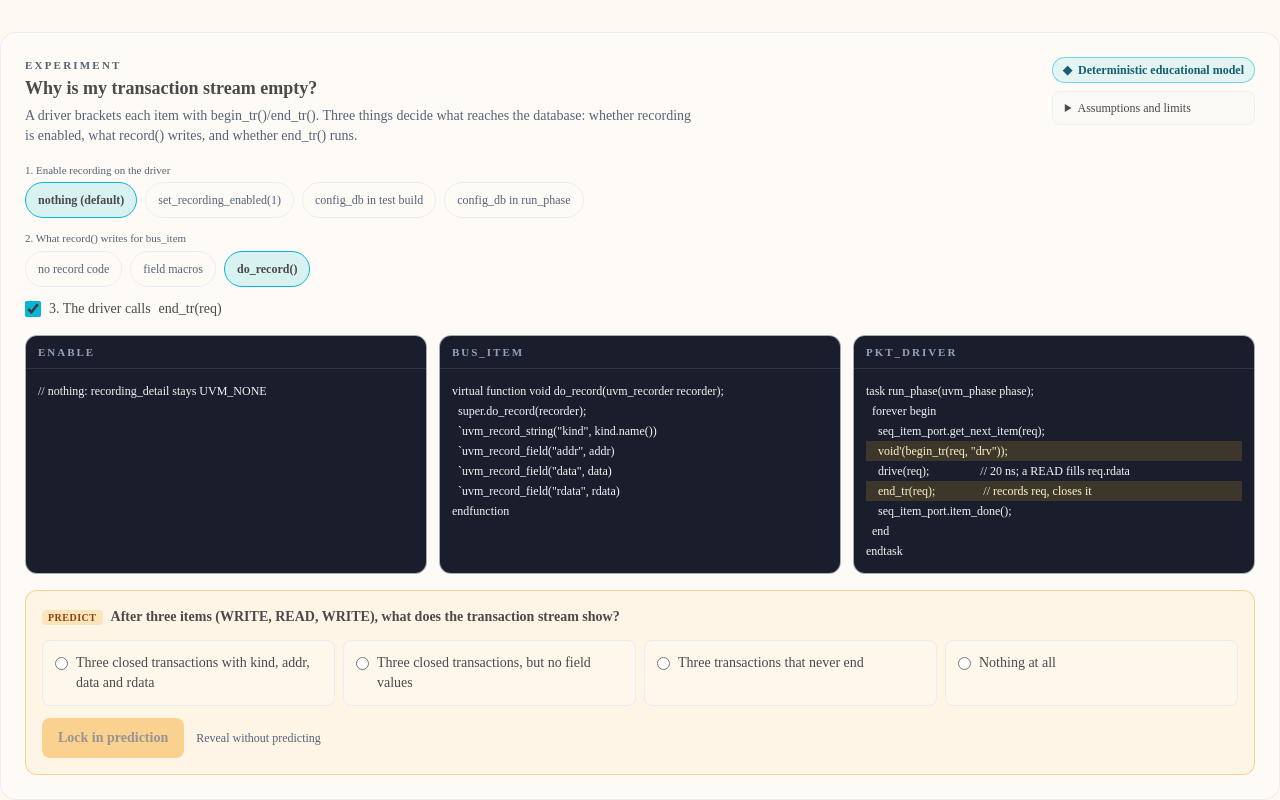
TransactionRecordingVisualizer › default: the stream stays hidden until the prediction, then shows an empty stream and begin_tr = 0
Click the radio button labelled "Three closed transactions with kind, addr, data and rdata".
click(62, 664)  # box [55,657,68,670]
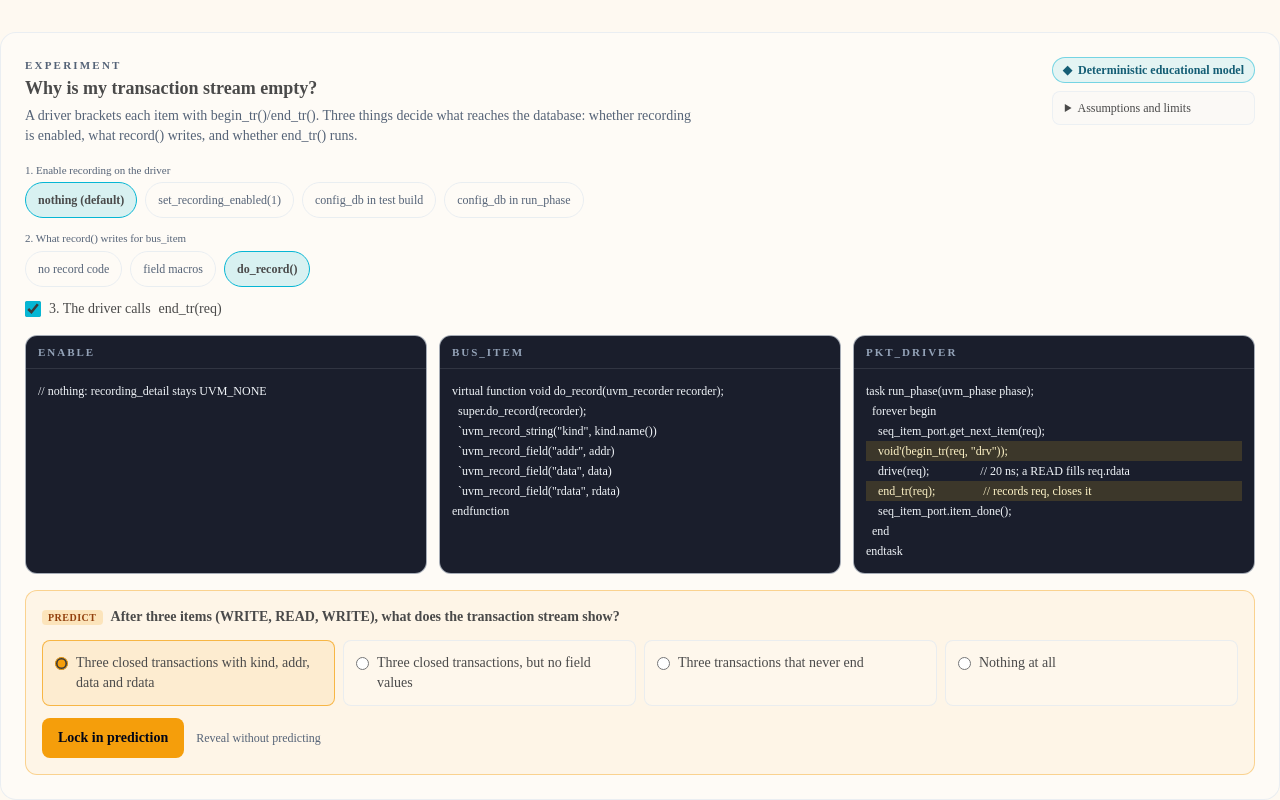
Click the button "Lock in prediction".
click(113, 738)  # box [42,718,184,758]
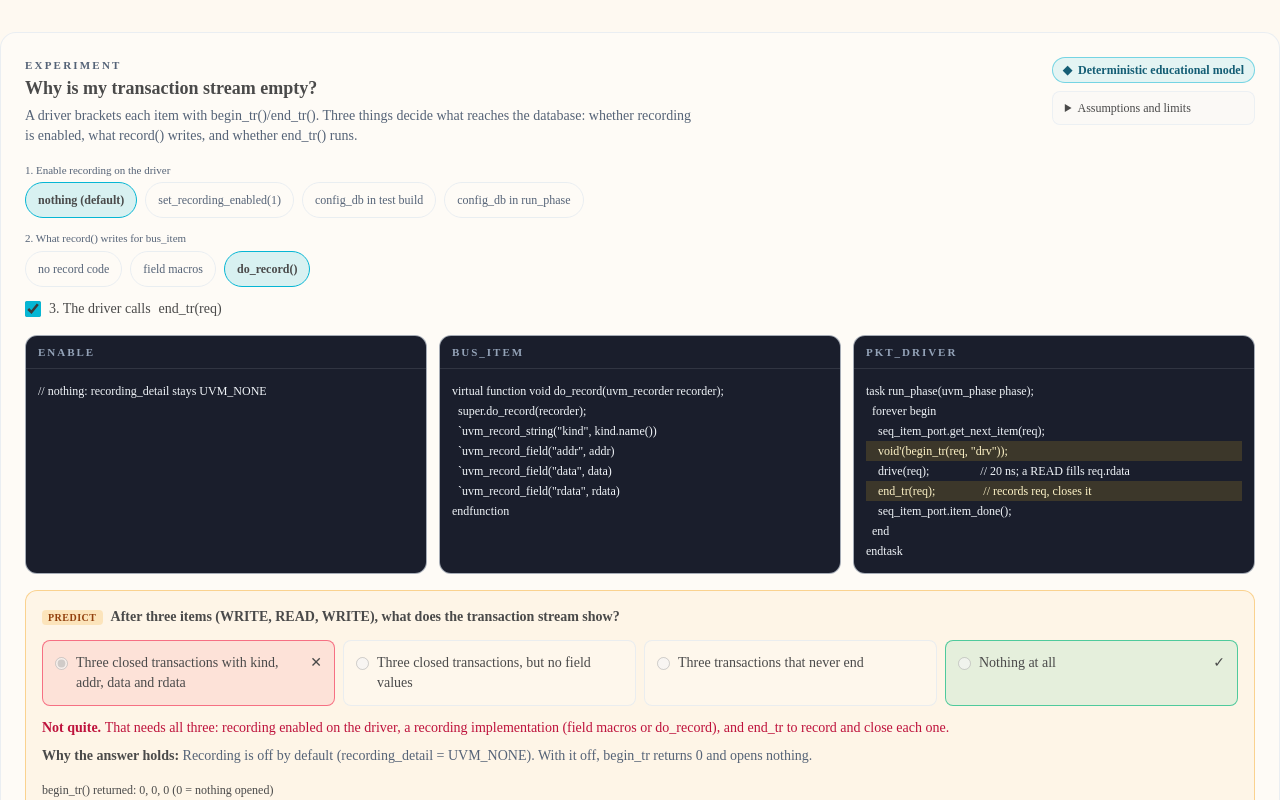
Result: the text "Not quite." is shown at [42,720,105,735]
Result: the text "begin_tr() returned: 0, 0, 0 (0 = nothing opened)" is shown at [42,783,273,797]
